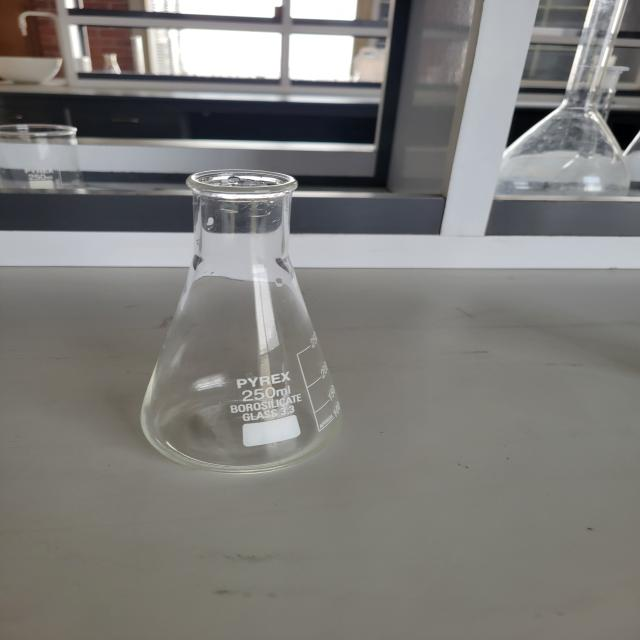Conical_Flask: (81, 135, 419, 532)
